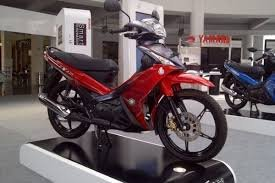motor: (36, 3, 229, 161)
